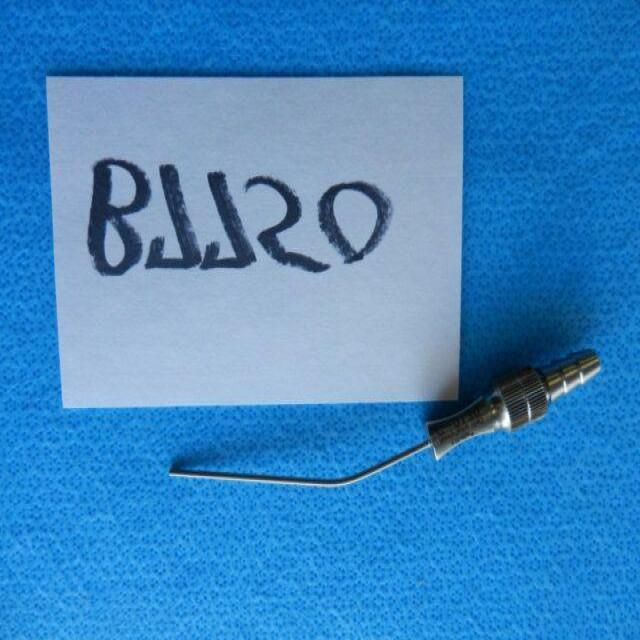Frazier: (164, 344, 605, 496)
